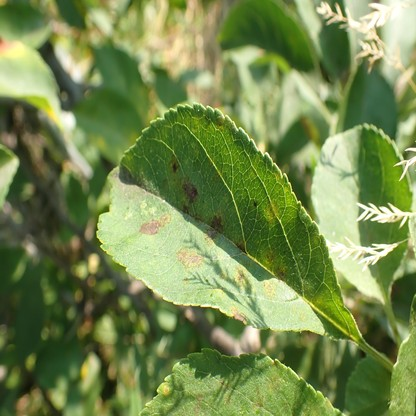rust: (163, 385, 169, 393)
scab: (113, 166, 155, 201), (261, 245, 286, 277), (140, 212, 172, 235), (176, 247, 202, 269), (179, 175, 199, 203), (206, 213, 222, 243), (220, 378, 235, 406), (232, 264, 250, 287), (251, 386, 265, 412), (193, 391, 206, 416), (231, 304, 248, 323), (266, 201, 281, 222), (262, 279, 275, 302), (290, 302, 306, 320), (169, 153, 181, 174), (266, 374, 280, 391), (235, 239, 246, 254), (218, 270, 228, 284), (194, 211, 202, 226), (182, 204, 190, 217), (162, 176, 168, 189)
